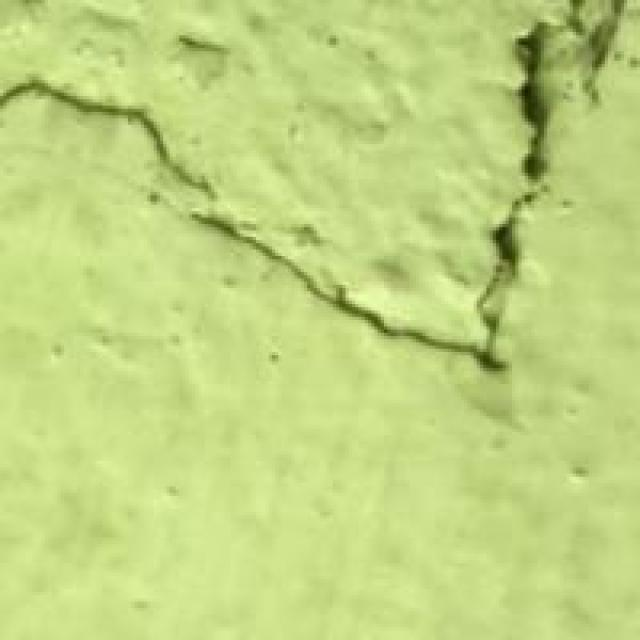crack: (9, 19, 636, 381)
